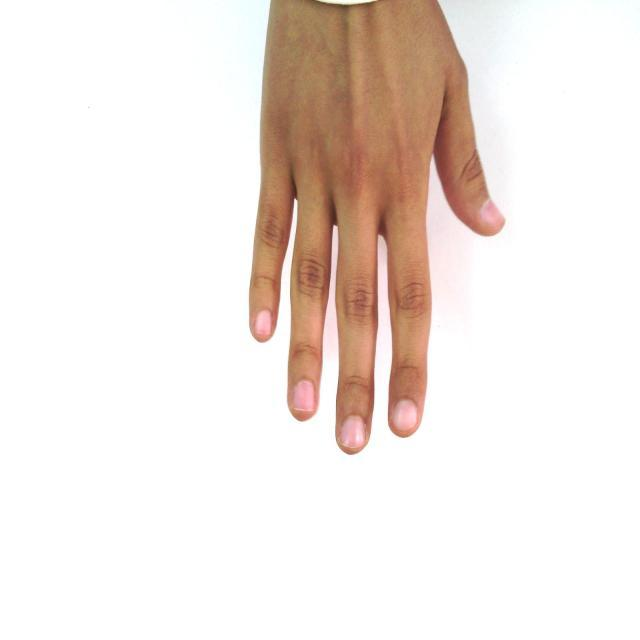Fingernail: (393, 401, 417, 430), (341, 417, 364, 447), (293, 380, 314, 412), (483, 200, 504, 224), (255, 310, 272, 335)
